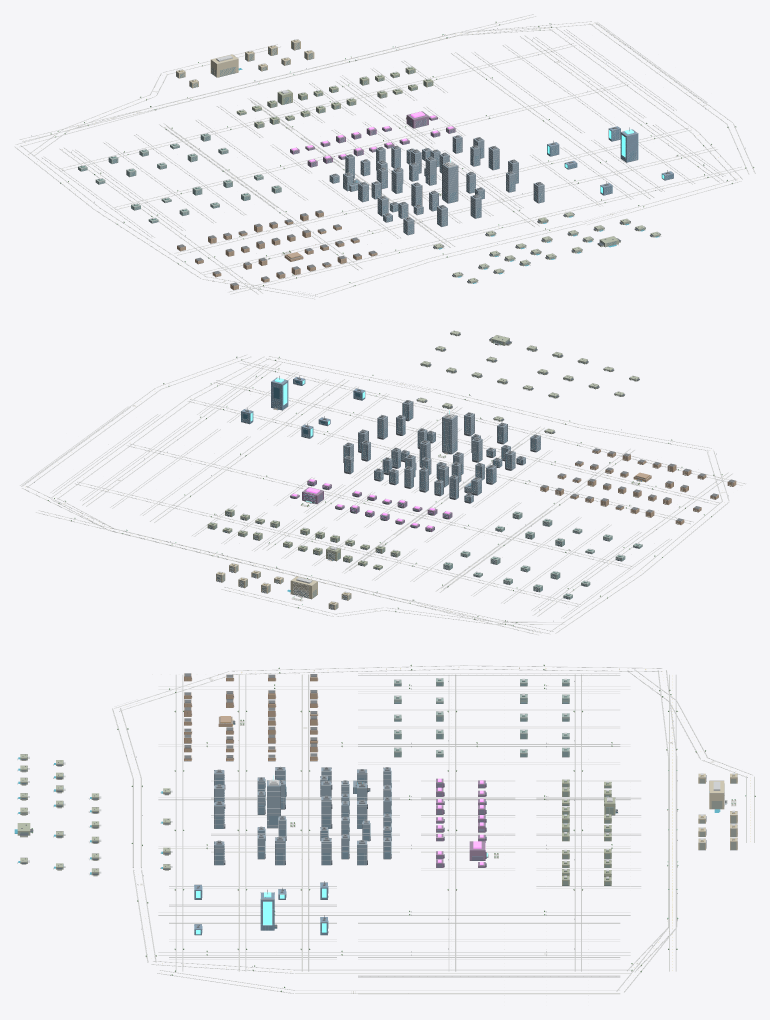
File: mirage-city-details.glb
3 renders of one model, top to bottom at view 1: azimuth 30°, elevation 25°; view 2: azimuth 150°, elevation 25°; view 3: azimuth 270°, elevation 25°, orthographic. The views are drawn at different scales.
Parts seen in each view (by area): view 1: trim_light, facade_downtown, glass_blue, curb, facade_old, facade_river, facade_hills, facade_canal, facade_beach, facade_night, facade_tech, v4_arch_arch_dark (+4 smaller); view 2: trim_light, facade_downtown, glass_blue, v4_arch_arch_dark, curb, facade_old, facade_river, v4_arch_arch_light, facade_hills, facade_beach, facade_canal, v4_arch_arch_roof (+4 smaller); view 3: trim_light, curb, facade_downtown, road_white, glass_blue, v4_arch_arch_light, facade_old, facade_river, facade_hills, v4_arch_arch_roof, facade_night, facade_canal (+4 smaller).
Boxes of the visible parts, x1,y1,x2,y2 form: trim_light: [14, 14, 755, 299]; facade_downtown: [330, 135, 544, 235]; glass_blue: [78, 42, 672, 282]; curb: [18, 15, 752, 296]; facade_old: [177, 211, 376, 289]; facade_river: [237, 66, 432, 128]; facade_hills: [433, 212, 660, 283]; facade_canal: [78, 133, 281, 223]; facade_beach: [176, 39, 313, 87]; facade_night: [290, 111, 455, 167]; facade_tech: [547, 126, 673, 195]; v4_arch_arch_dark: [329, 127, 667, 282]; trim_light: [19, 330, 745, 635]; facade_downtown: [343, 401, 540, 503]; glass_blue: [209, 335, 641, 609]; v4_arch_arch_dark: [209, 331, 730, 609]; curb: [23, 356, 728, 631]; facade_old: [540, 449, 736, 524]; facade_river: [208, 508, 399, 569]; v4_arch_arch_light: [211, 334, 732, 602]; facade_hills: [417, 331, 638, 433]; facade_beach: [216, 563, 350, 609]; facade_canal: [443, 511, 642, 599]; v4_arch_arch_roof: [245, 377, 735, 521]; trim_light: [20, 665, 754, 994]; curb: [113, 665, 747, 992]; facade_downtown: [214, 767, 390, 865]; road_white: [120, 666, 714, 993]; glass_blue: [20, 683, 735, 934]; v4_arch_arch_light: [14, 678, 737, 883]; facade_old: [184, 673, 317, 760]; facade_river: [562, 779, 614, 885]; facade_hills: [17, 754, 170, 875]; v4_arch_arch_roof: [184, 673, 388, 927]; facade_night: [436, 779, 485, 867]; facade_canal: [394, 678, 569, 756].
Bounding box in the file's own units: 3835 × 262 × 3534.
